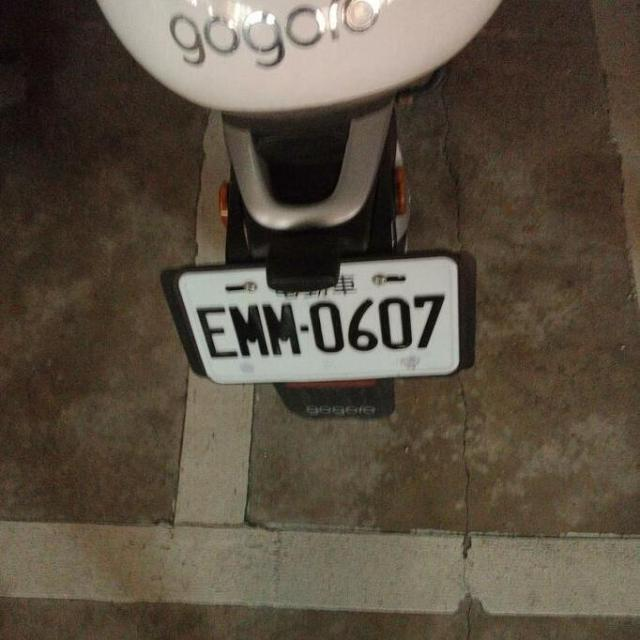W: (173, 240, 473, 401)
